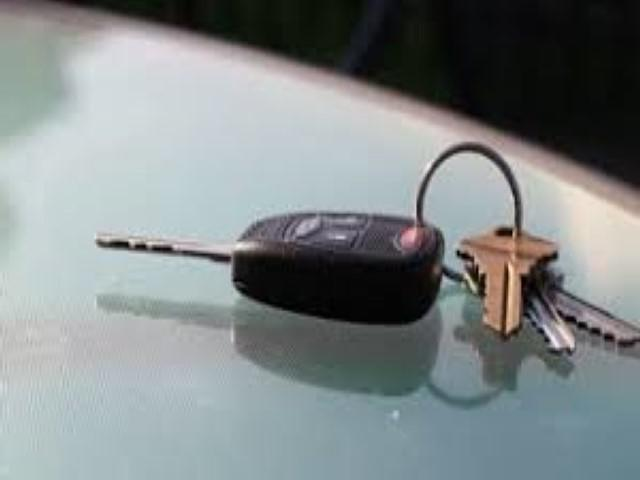key: (94, 205, 442, 442)
